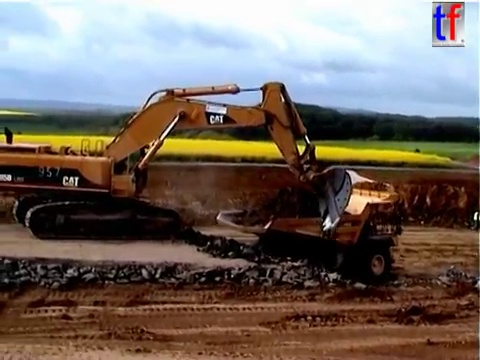excavator: (1, 79, 355, 243)
truck: (213, 165, 407, 288)
worker: (470, 209, 480, 232)
